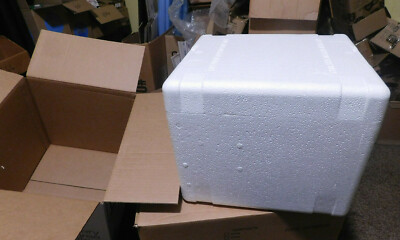泡沫箱: (163, 34, 390, 216)
